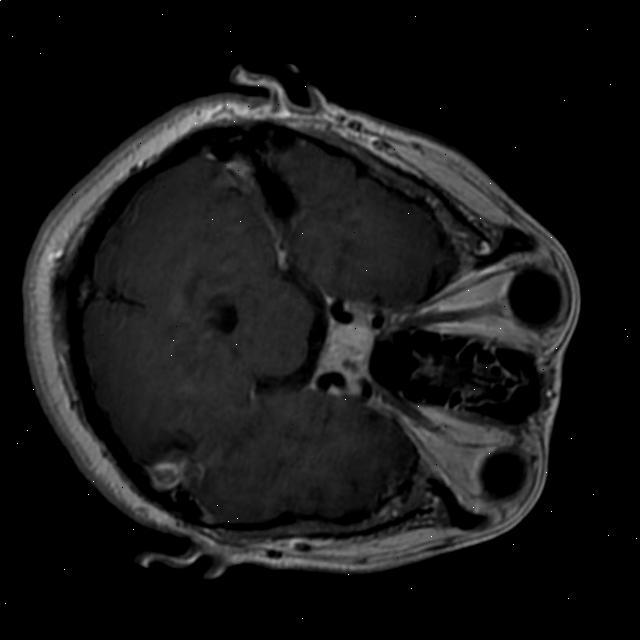Pituitary: (312, 315, 380, 391)
